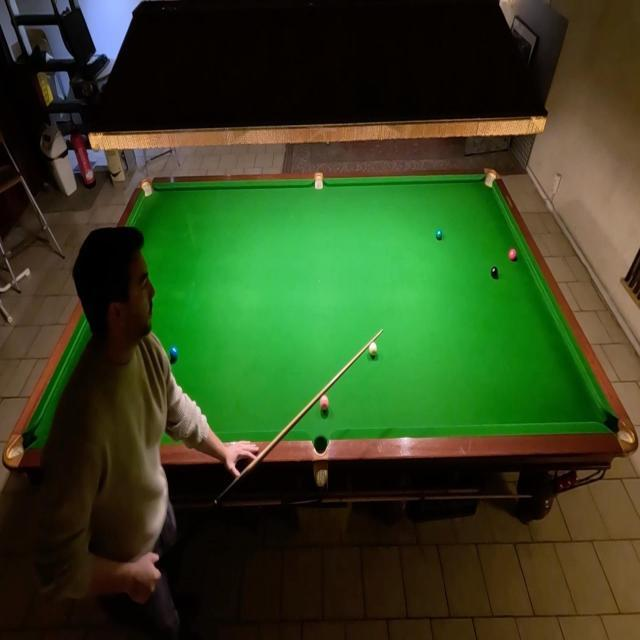Ball: (168, 344, 180, 364), (318, 393, 329, 414), (490, 264, 500, 282), (507, 246, 518, 262), (368, 341, 378, 358), (434, 228, 444, 243)
Pocket: (6, 427, 39, 467), (603, 414, 636, 452), (312, 434, 329, 456), (482, 171, 498, 190), (141, 180, 155, 199), (313, 173, 325, 190)
